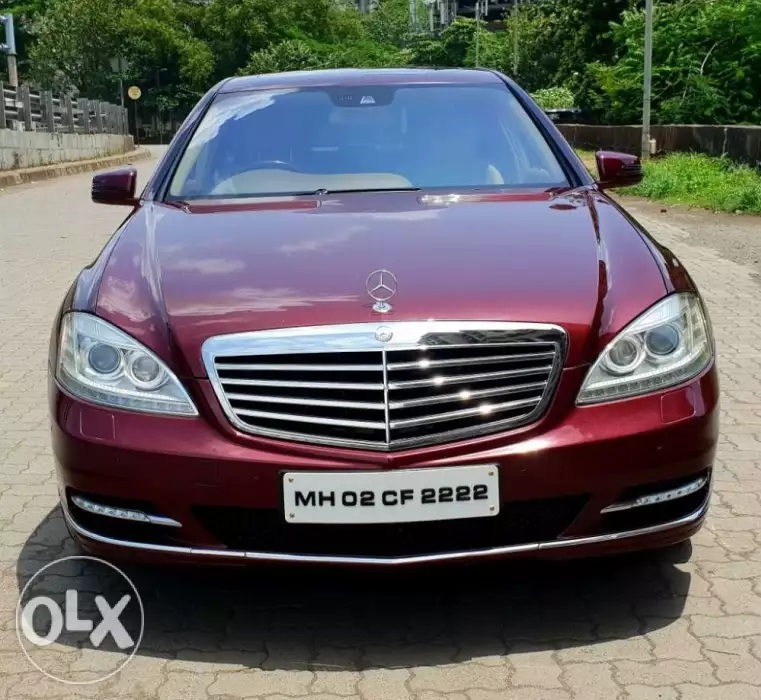licenseplate: (278, 465, 507, 523)
